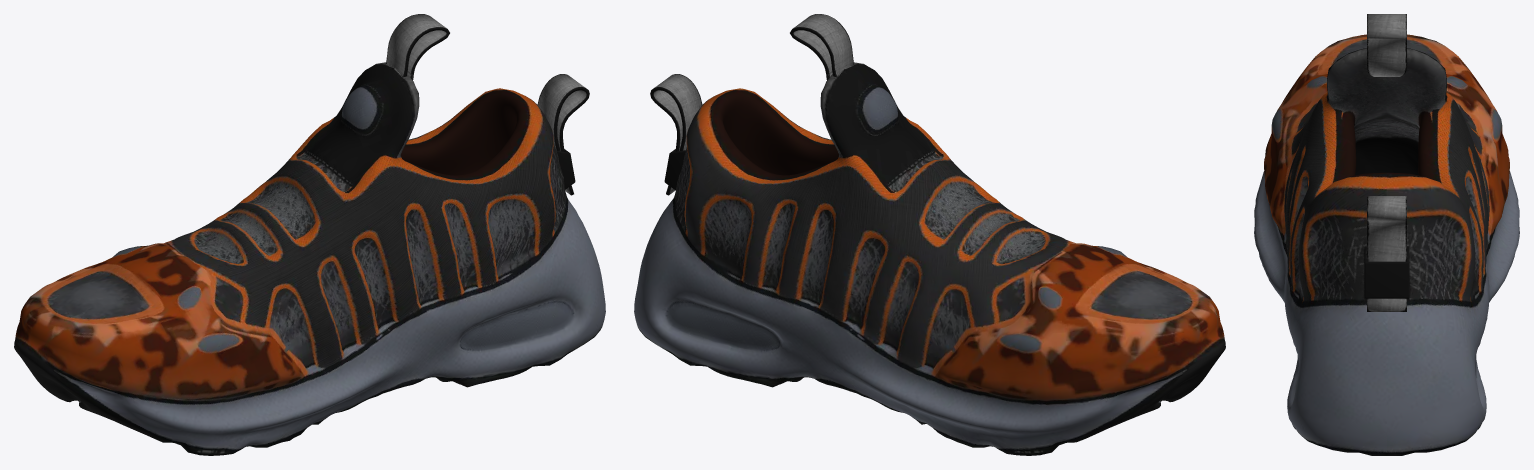
The model's file is shoes-transformed.glb.
3 views of the same model, side by side, from view 1: azimuth 30°, elevation 25°; view 2: azimuth 150°, elevation 25°; view 3: azimuth 270°, elevation 25° (orthographic). The views are drawn at different scales.
Parts seen in each view (by area): view 1: Object_2; view 2: Object_2; view 3: Object_2.
Boxes of the visible parts, bbox=[...] form: Object_2: bbox=[14, 14, 605, 455]; Object_2: bbox=[634, 14, 1225, 455]; Object_2: bbox=[1254, 14, 1519, 455].
Bounding box in the file's own units: 369 × 210 × 136.
Materials: 1 (1 with a texture image).
